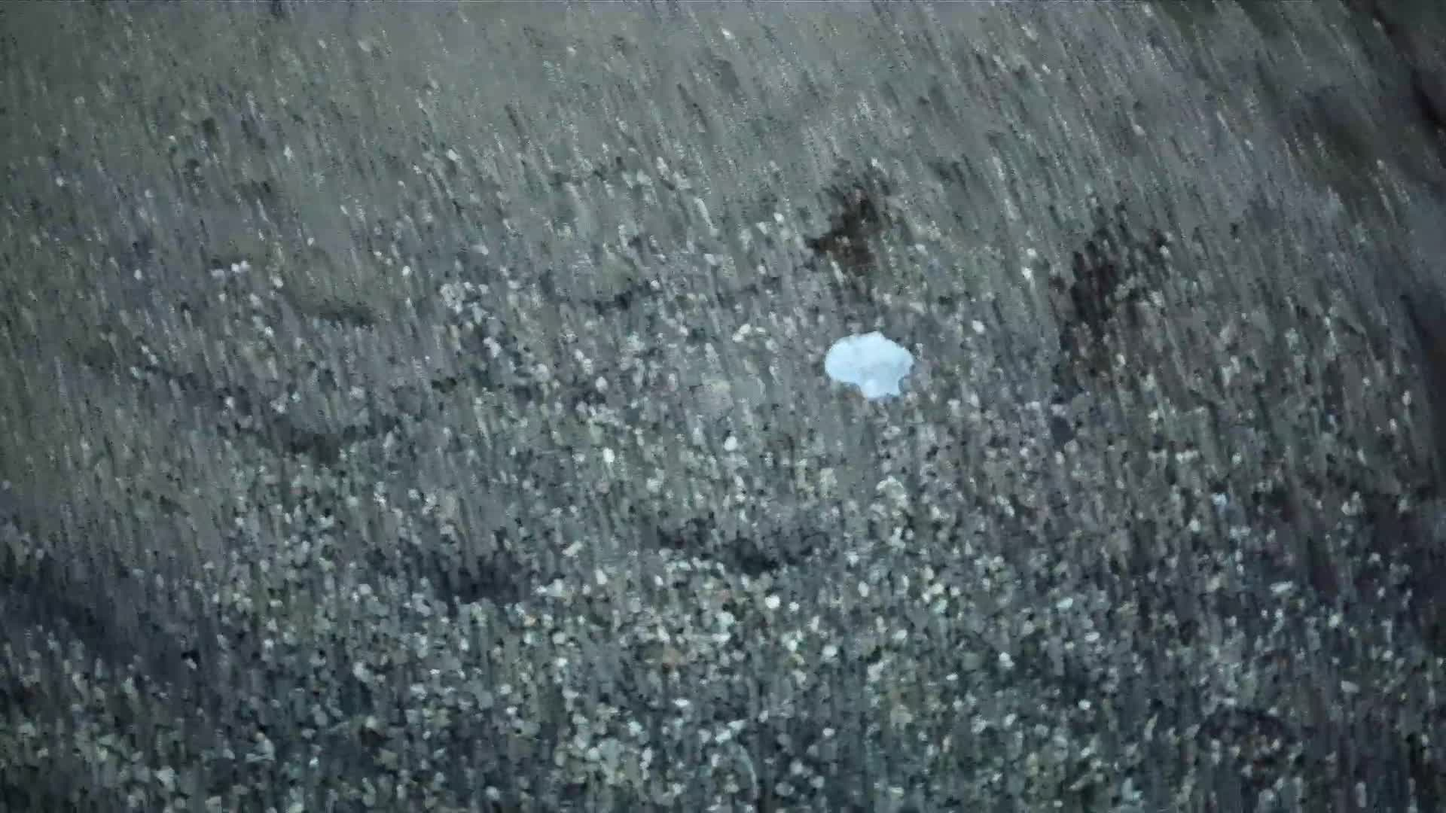Target: (816, 328, 918, 402)
